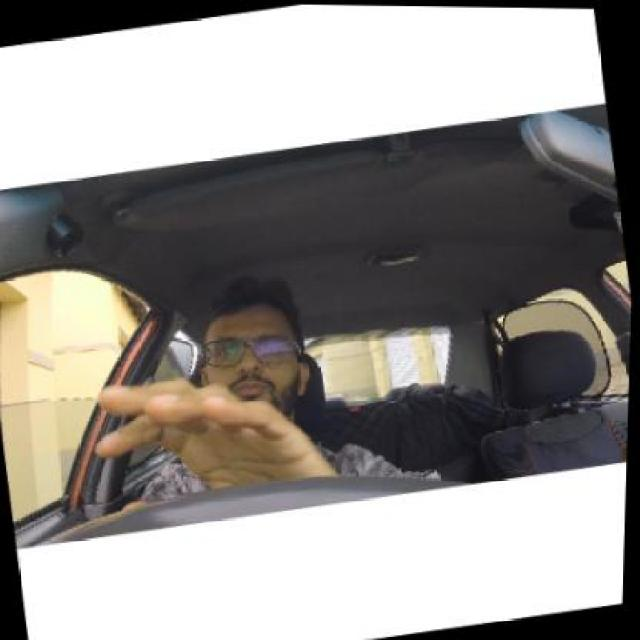person: (190, 274, 328, 431)
